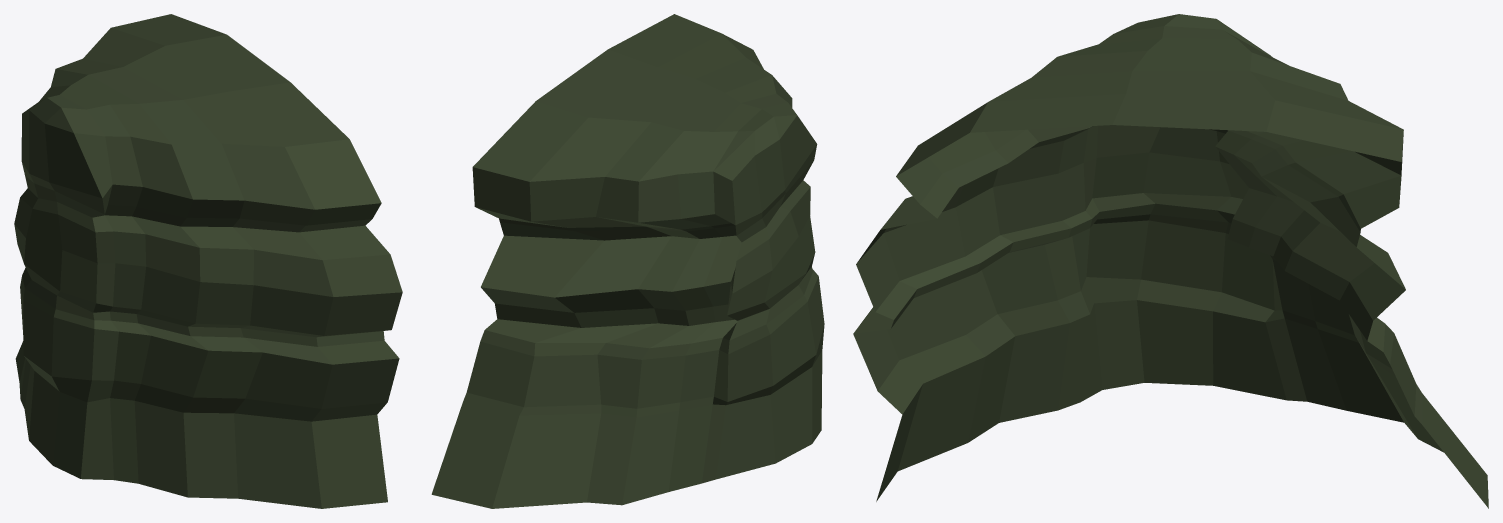
The model's file is EA_Swamp_Island_Part_03a.glb.
3 views of the same model, side by side, from view 1: azimuth 30°, elevation 25°; view 2: azimuth 150°, elevation 25°; view 3: azimuth 270°, elevation 25° (orthographic). The views are drawn at different scales.
Visible parts, largest first — view 1: EA_Swamp_Island_Part_03a; view 2: EA_Swamp_Island_Part_03a; view 3: EA_Swamp_Island_Part_03a.
Part boxes in pixels (left/top/right/bottom): EA_Swamp_Island_Part_03a: left=14, top=14, right=402, bottom=508; EA_Swamp_Island_Part_03a: left=431, top=14, right=824, bottom=508; EA_Swamp_Island_Part_03a: left=853, top=14, right=1488, bottom=508.
Bounding box in the file's own units: 10.36 × 14.19 × 21.28.
Materials: 1 (1 with a texture image).
